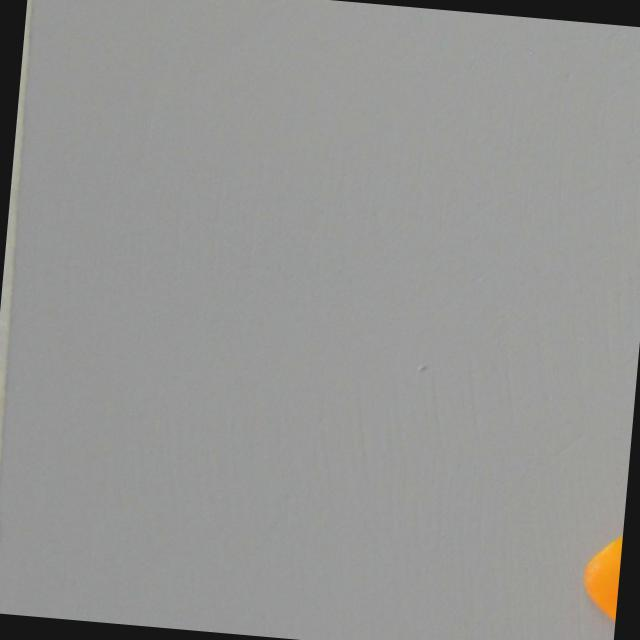no_canjicado: (568, 509, 624, 633)
